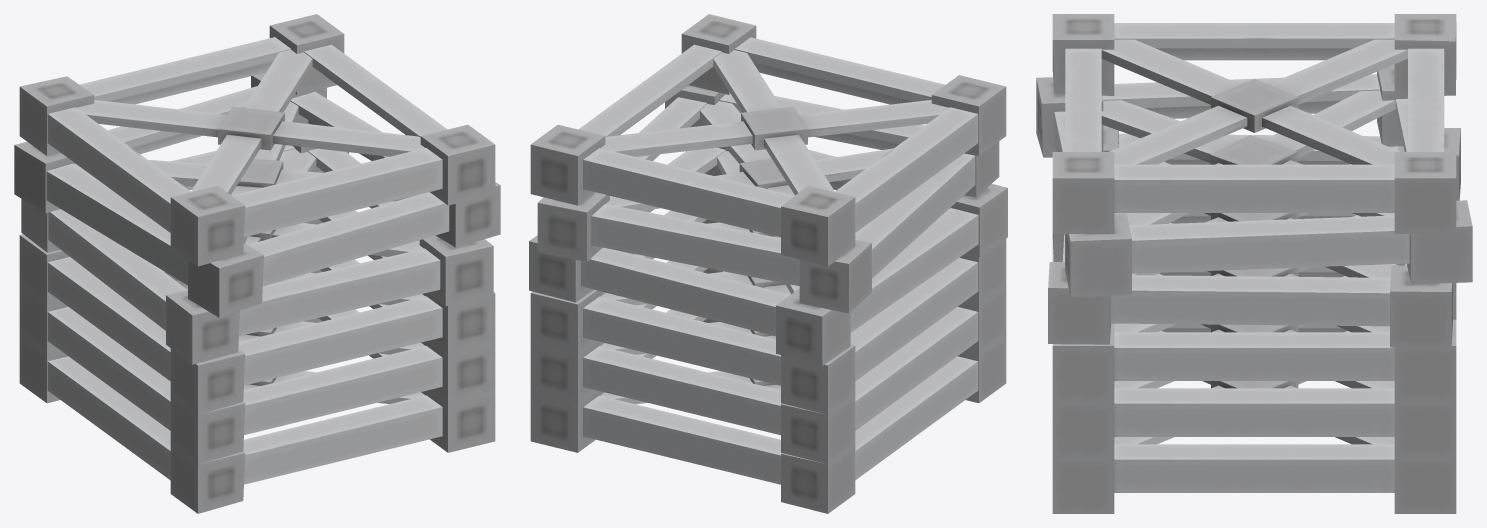
Rendered from Pfb_SteelFrame_01_GRP.fbx.
The picture shows the model from 3 angles, left to right: view 1: azimuth 30°, elevation 25°; view 2: azimuth 150°, elevation 25°; view 3: azimuth 270°, elevation 25°; orthographic projection. The views are drawn at different scales.
Visible parts, largest first — view 1: Mat_SteelFrame_01 7; view 2: Mat_SteelFrame_01 7; view 3: Mat_SteelFrame_01 7.
Boxes of the visible parts, left/top/right/bottom form: Mat_SteelFrame_01 7: left=14, top=14, right=500, bottom=513; Mat_SteelFrame_01 7: left=529, top=14, right=1007, bottom=513; Mat_SteelFrame_01 7: left=1036, top=14, right=1472, bottom=513.
Bounding box in the file's own units: 2.05 × 1.8 × 2.12.
Materials: 1 (1 with a texture image).
